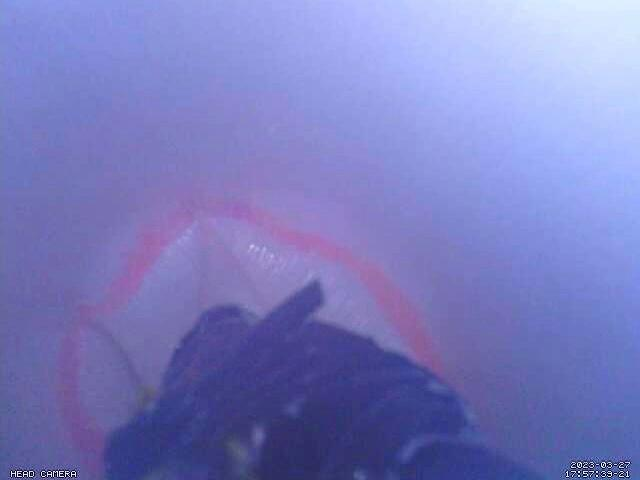head: (54, 198, 448, 480)
